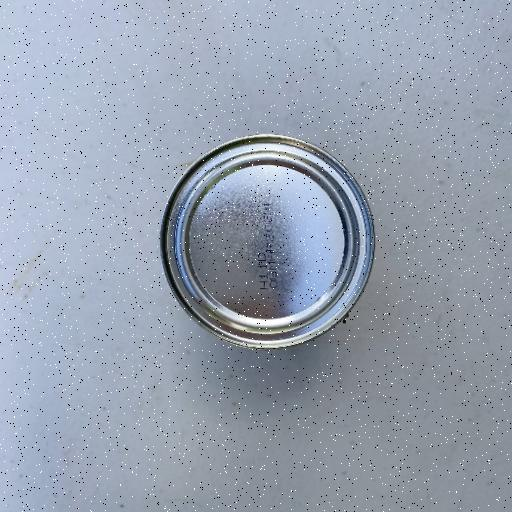Metal: (157, 130, 378, 352)
